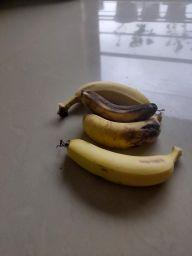banana: (56, 136, 184, 190), (53, 80, 152, 119), (82, 107, 165, 150), (78, 87, 160, 123)
